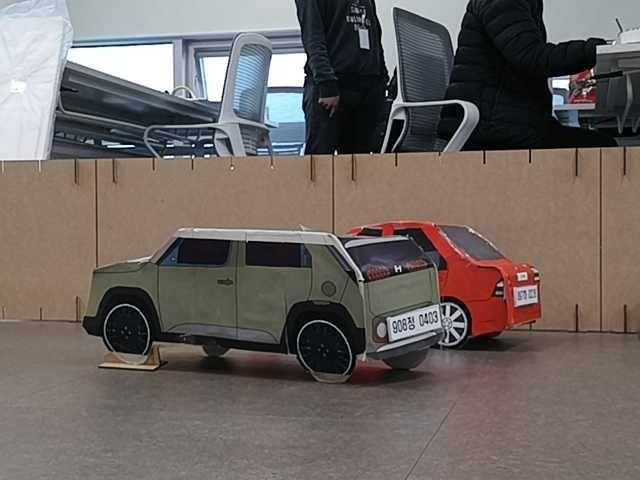car: (78, 222, 445, 387), (432, 218, 543, 349)
id: (385, 304, 441, 343), (511, 283, 539, 307)
